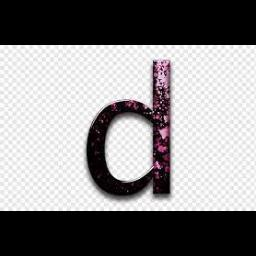d: (78, 55, 194, 201)
